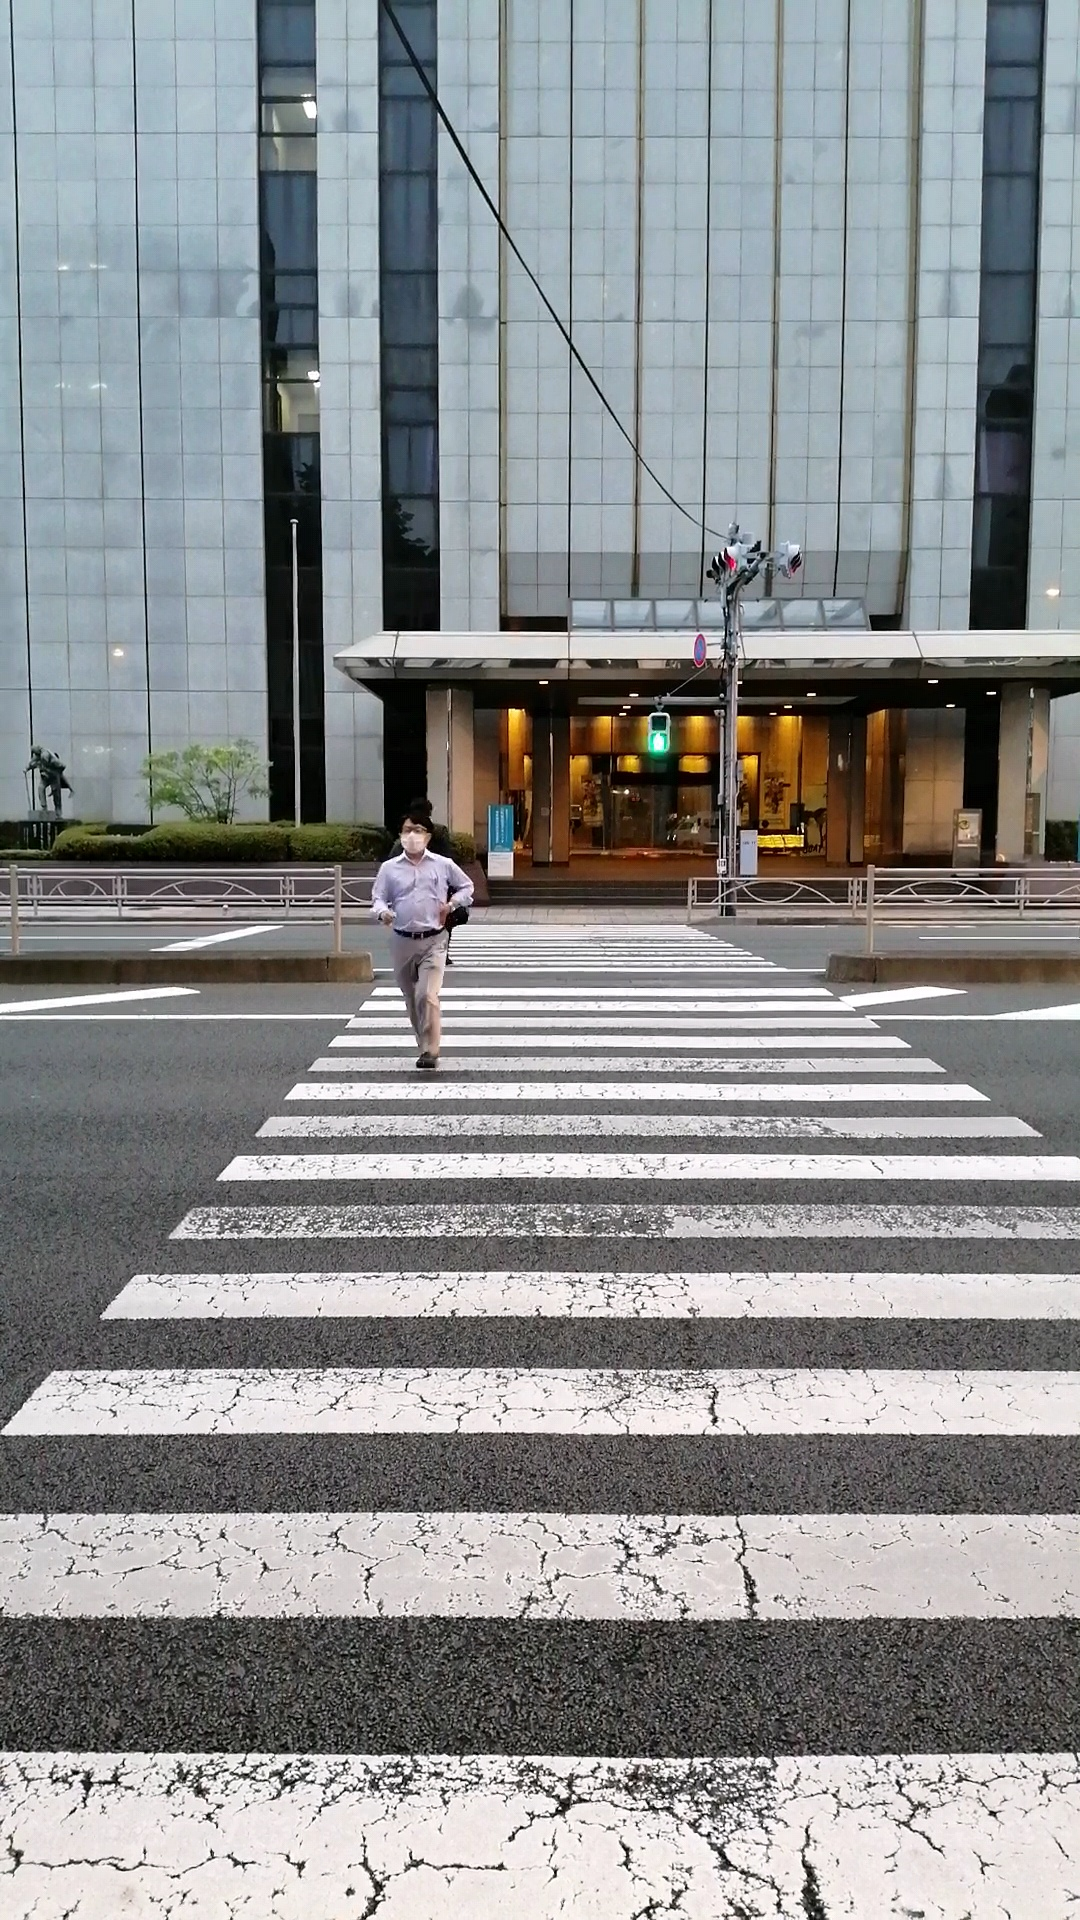green: (646, 711, 669, 752)
